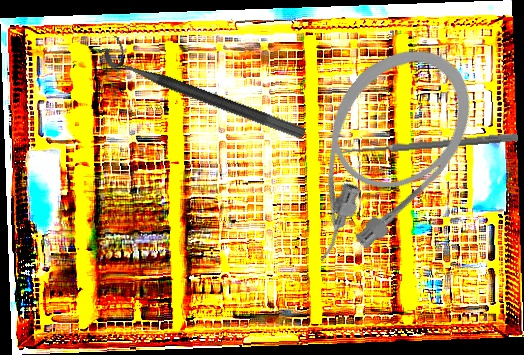Cannula: (256, 23, 498, 287)
Fixation Ring: (100, 34, 313, 141)
Surgical Spoon: (333, 131, 519, 158)
